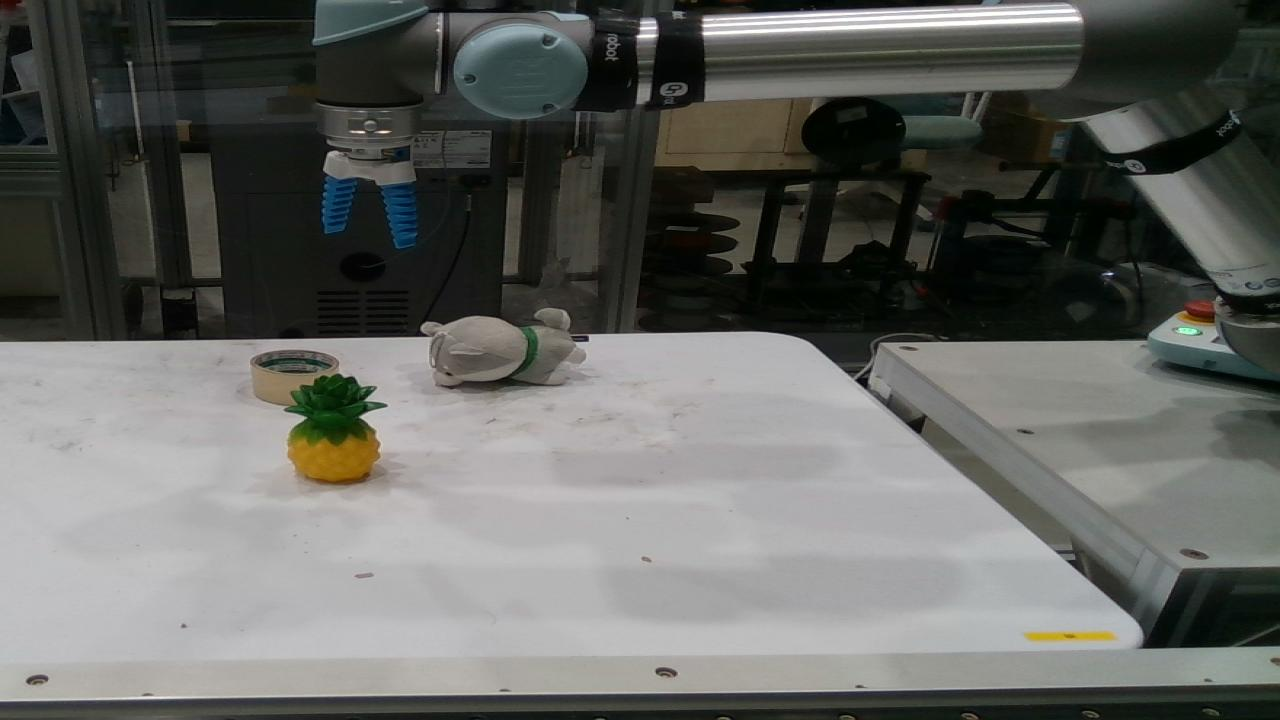UR5: (328, 4, 1276, 363)
gripper_left: (322, 177, 356, 233)
gripper_right: (384, 182, 414, 246)
target: (424, 309, 582, 386), (284, 375, 380, 480), (252, 351, 334, 404)
